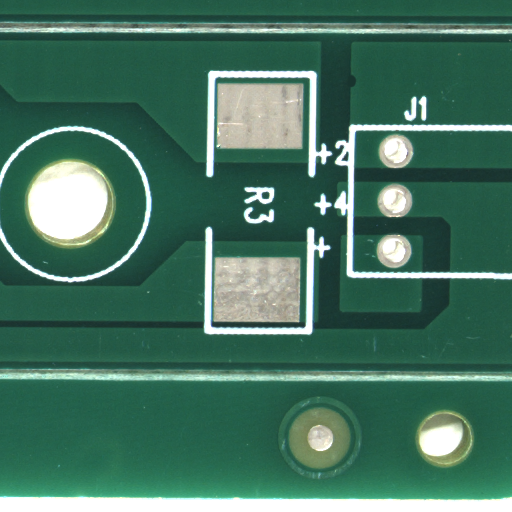Mouse_bite: (353, 81, 361, 96)
